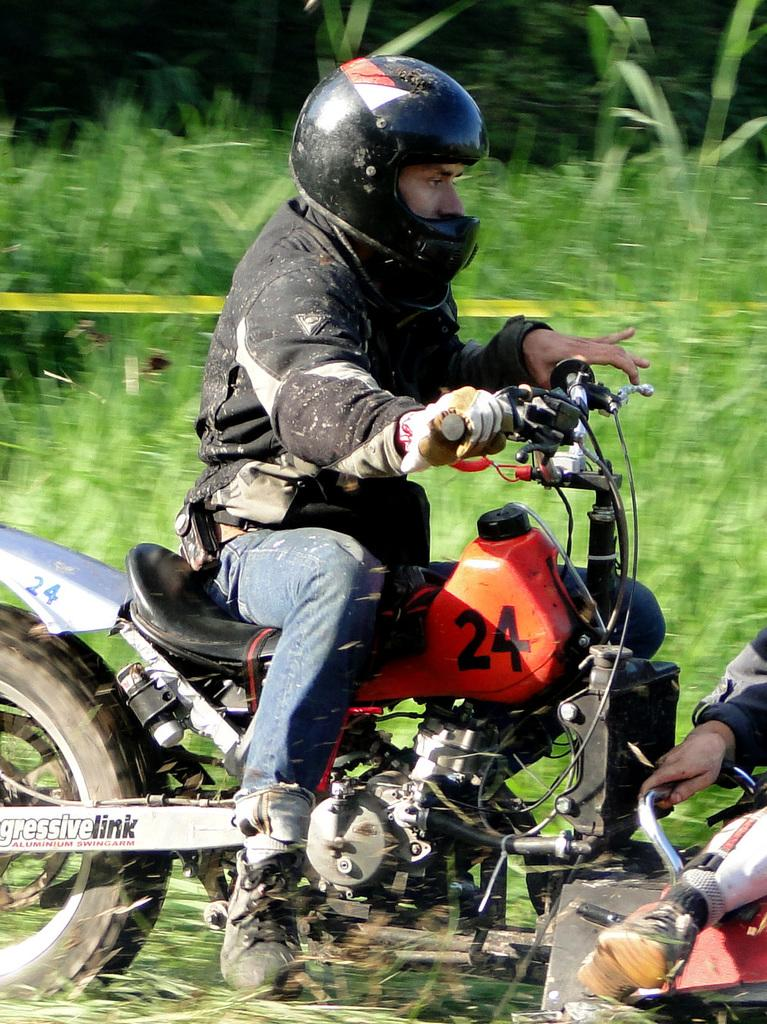helmet: (288, 54, 490, 285)
